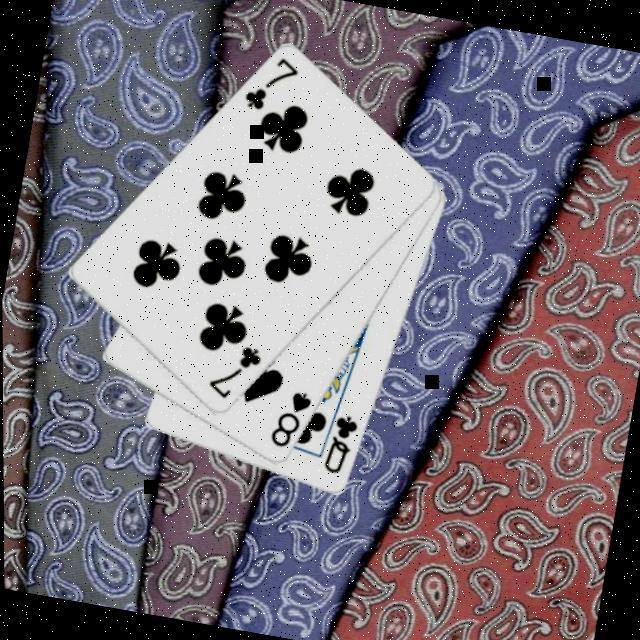7C: (239, 49, 304, 120), (202, 338, 266, 408)
8S: (265, 385, 316, 455)
QC: (319, 410, 362, 481)
